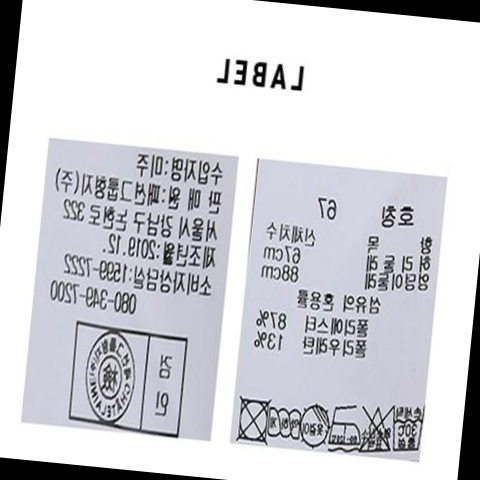DN_bleach: (356, 401, 394, 457)
DN_tumble_dry: (231, 392, 272, 448)
hand_wash: (387, 403, 429, 457)
iron_low: (327, 400, 364, 452)
line_dry_in_shade: (298, 401, 331, 449)
wring: (264, 404, 304, 443)
